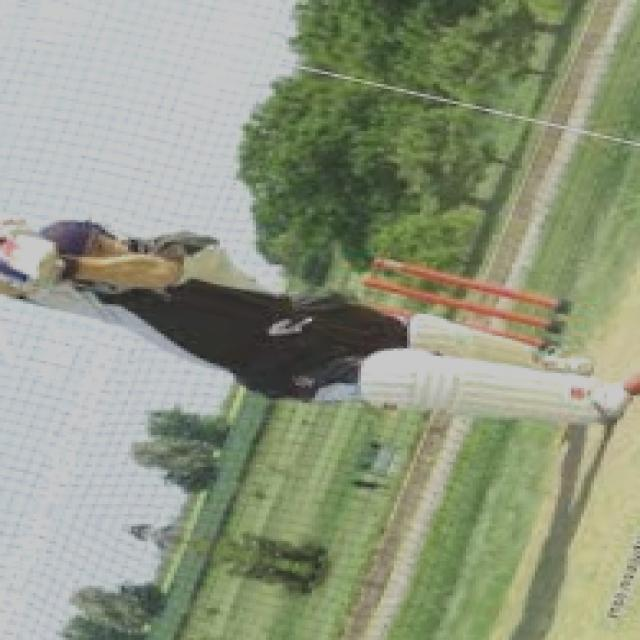toe: (15, 239, 65, 281)
